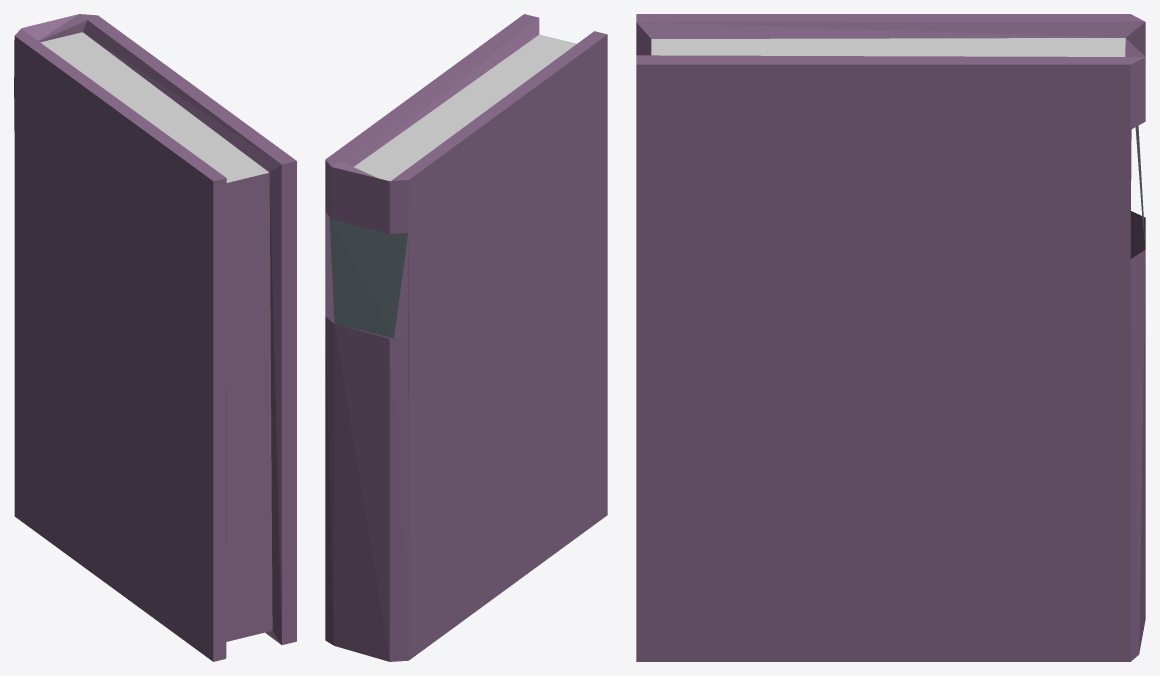
File: purple_book.glb
The picture shows the model from 3 angles, left to right: view 1: azimuth 30°, elevation 25°; view 2: azimuth 150°, elevation 25°; view 3: azimuth 270°, elevation 25°; orthographic projection. The views are drawn at different scales.
Parts seen in each view (by area): view 1: 3_books.001; view 2: 3_books.001; view 3: 3_books.001.
Boxes of the visible parts, x1,y1,x2,y2 form: 3_books.001: (14,14,296,661); 3_books.001: (325,14,607,661); 3_books.001: (636,14,1145,661).
Bounding box in the file's own units: 0.0495 × 0.2723 × 0.2104.
